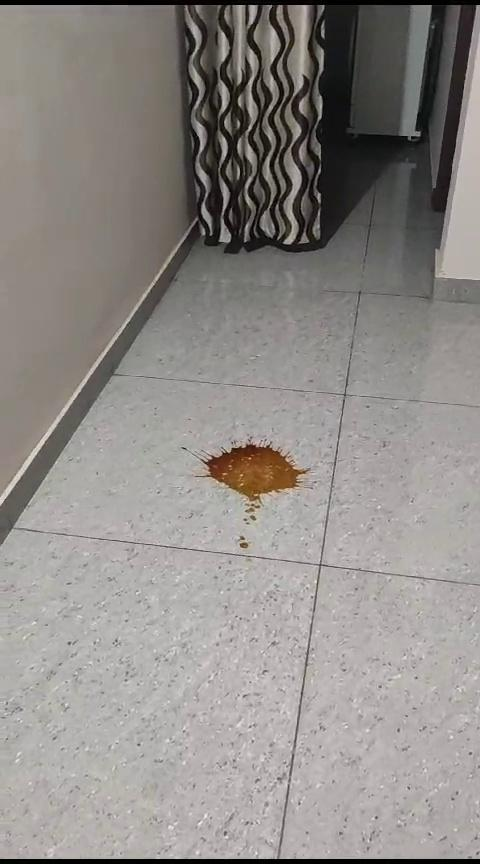dirty_floor: (178, 434, 321, 564)
